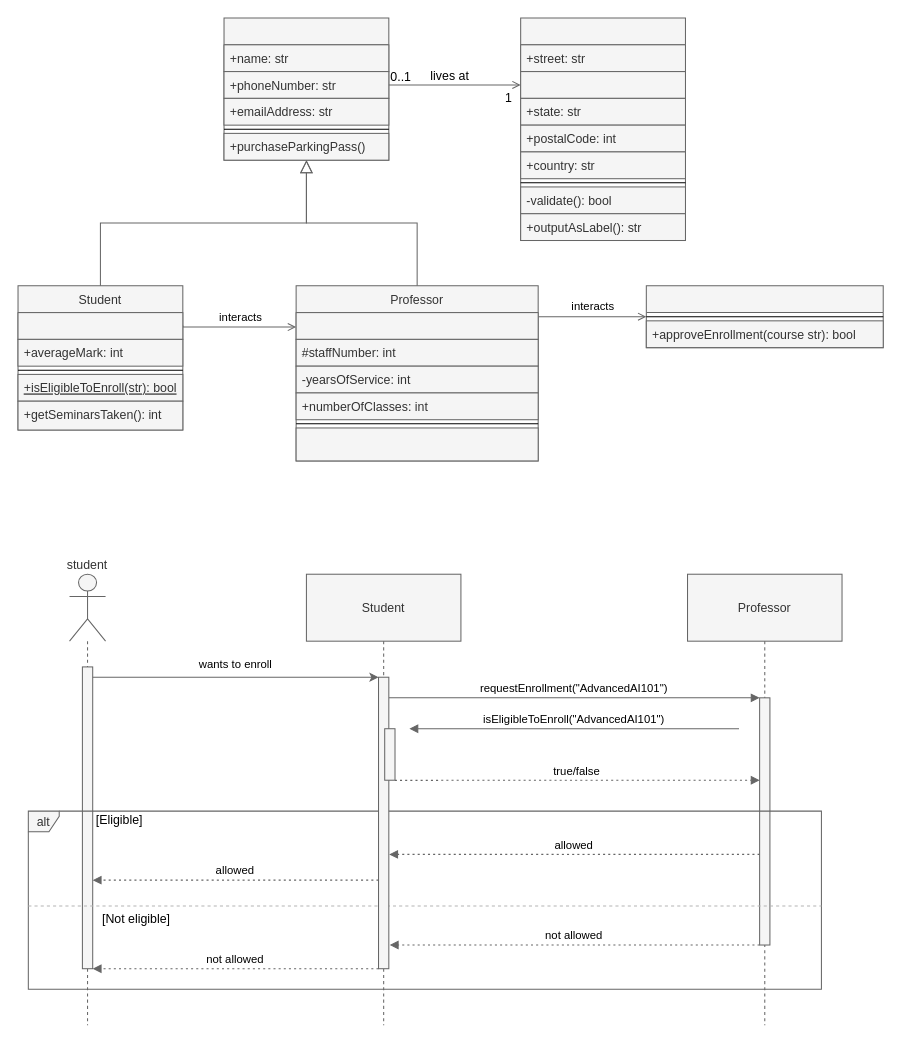
This 901x1043 diagram has some shape labels left out. Each missing label, with the box of its shape:
+city: str: (520, 71, 685, 98)
+requestEnrollment(course str): bool: (295, 427, 538, 461)
+studentNumber: int: (17, 312, 183, 339)
/salary: int: (295, 312, 538, 339)
Address: (520, 17, 685, 241)
Person: (223, 17, 389, 160)
System: (645, 285, 883, 348)
